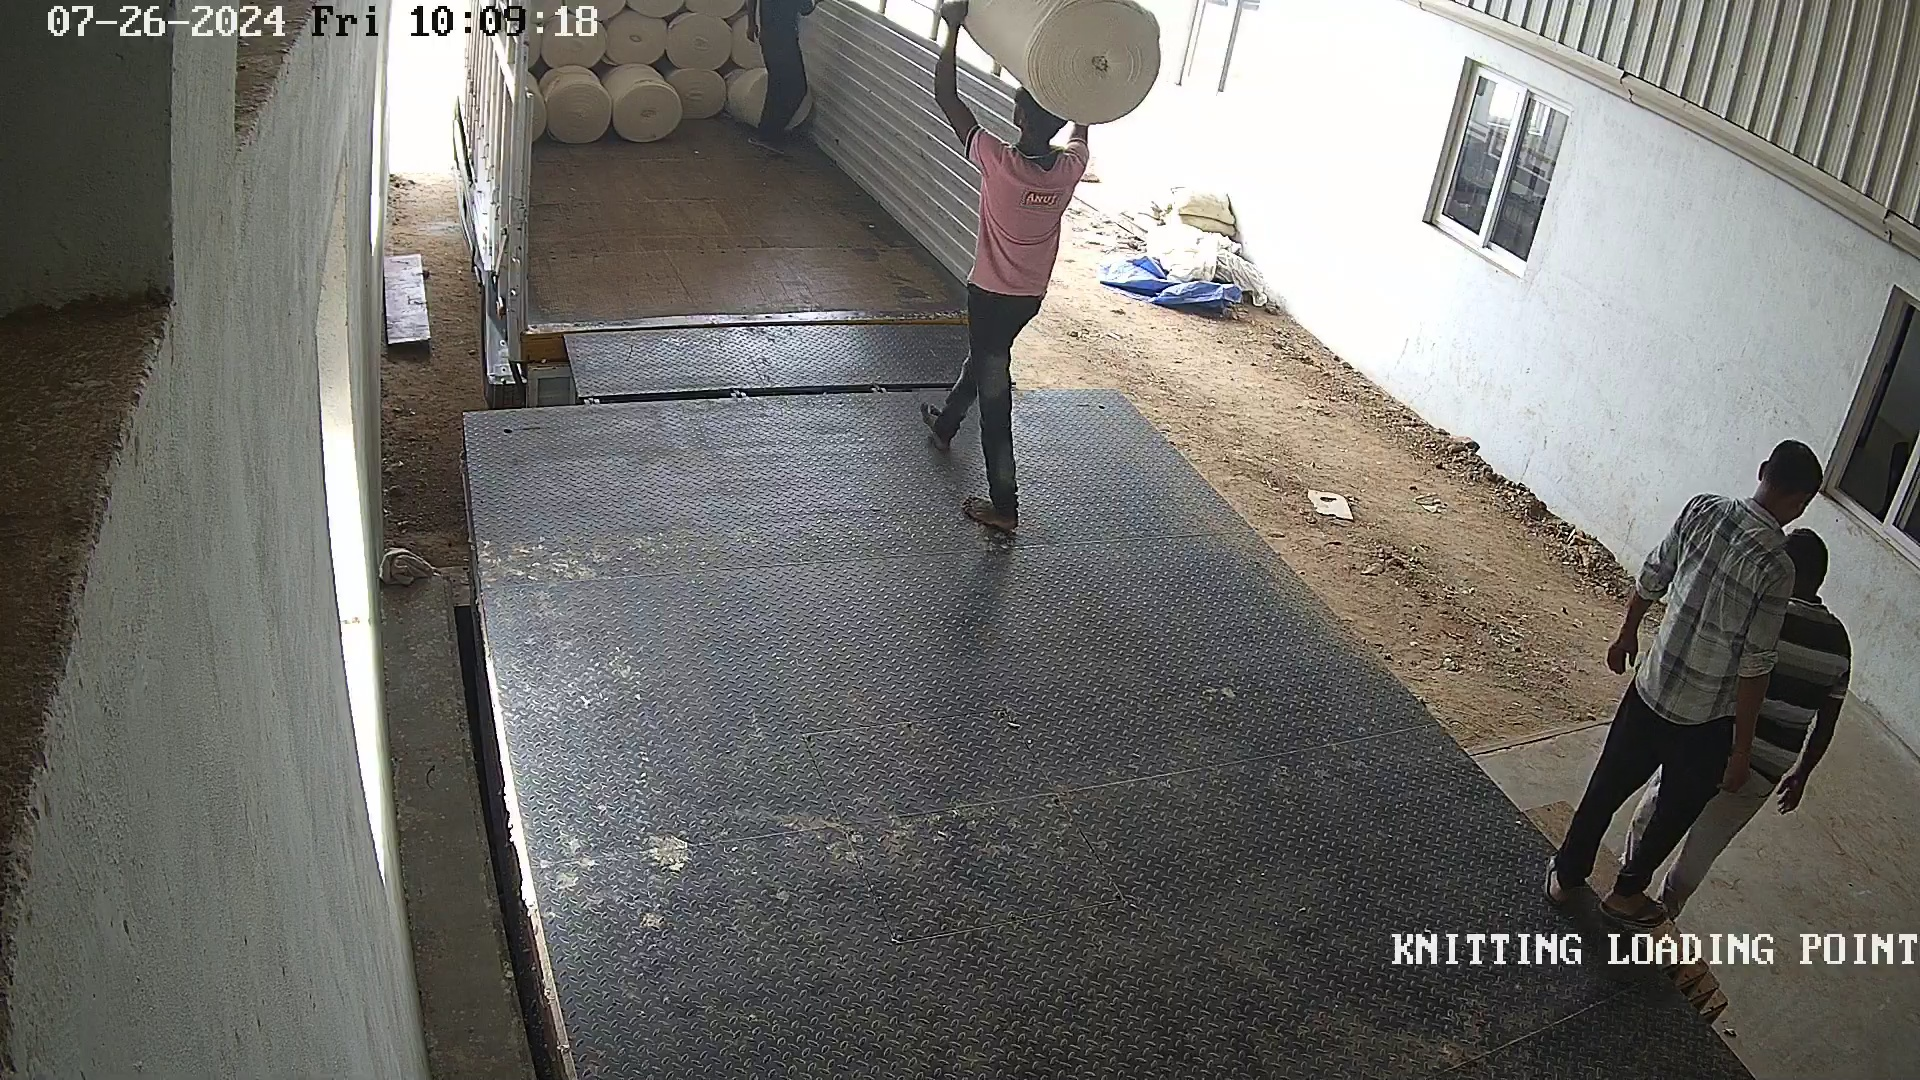bag: (926, 1, 1168, 128)
